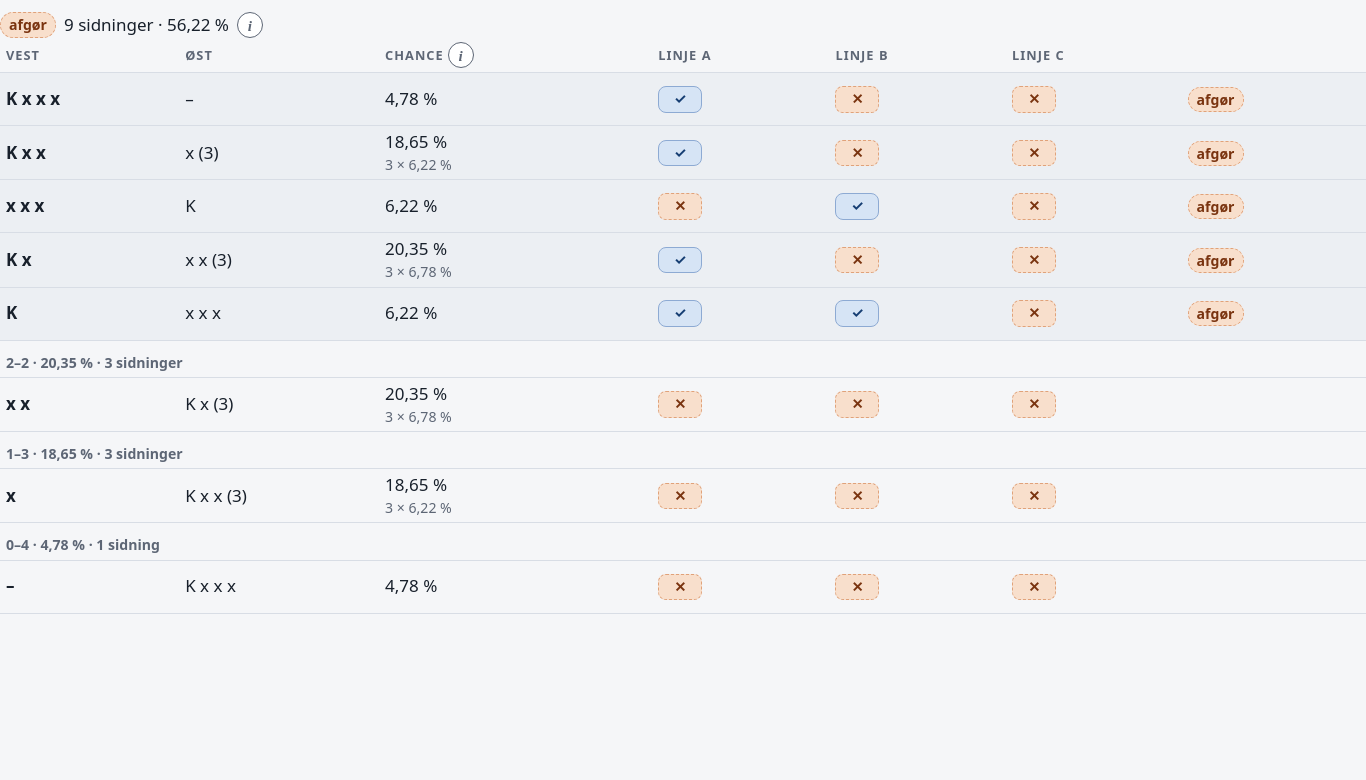
Test: Sidningstabellen med antal og chance pr. sidning (SPEC-notation-sidninger.md) › ⓘ ved Chance-overskriften forklarer notationen; der kommer ingen ny kolonne
Click the button named "Hjælp: Chance" at (461, 55), box x1=448 y1=42 x2=474 y2=68
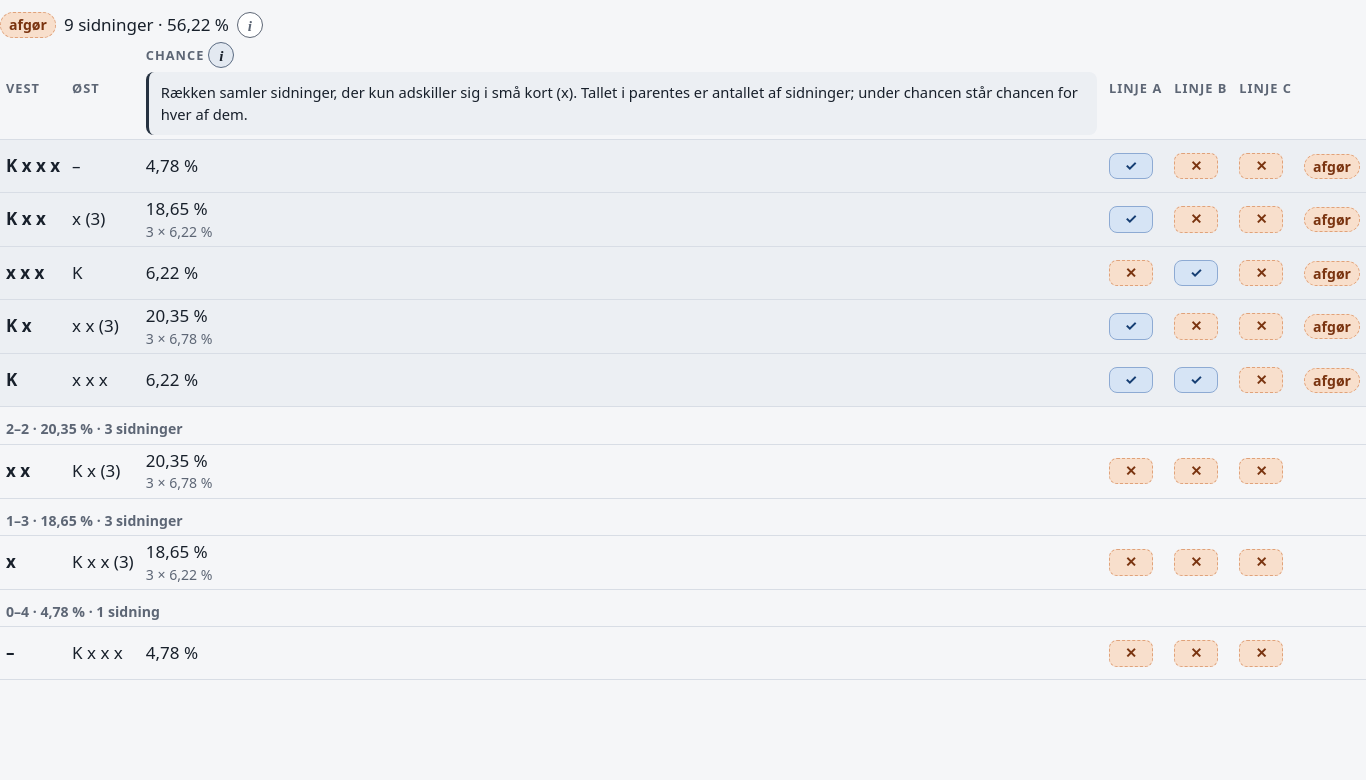
Result: the text "Rækken samler sidninger, der kun adskiller sig i små kort (x). Tallet i parentes er antallet af sidninger; under chancen" is shown at x1=161 y1=82 x2=1078 y2=124
